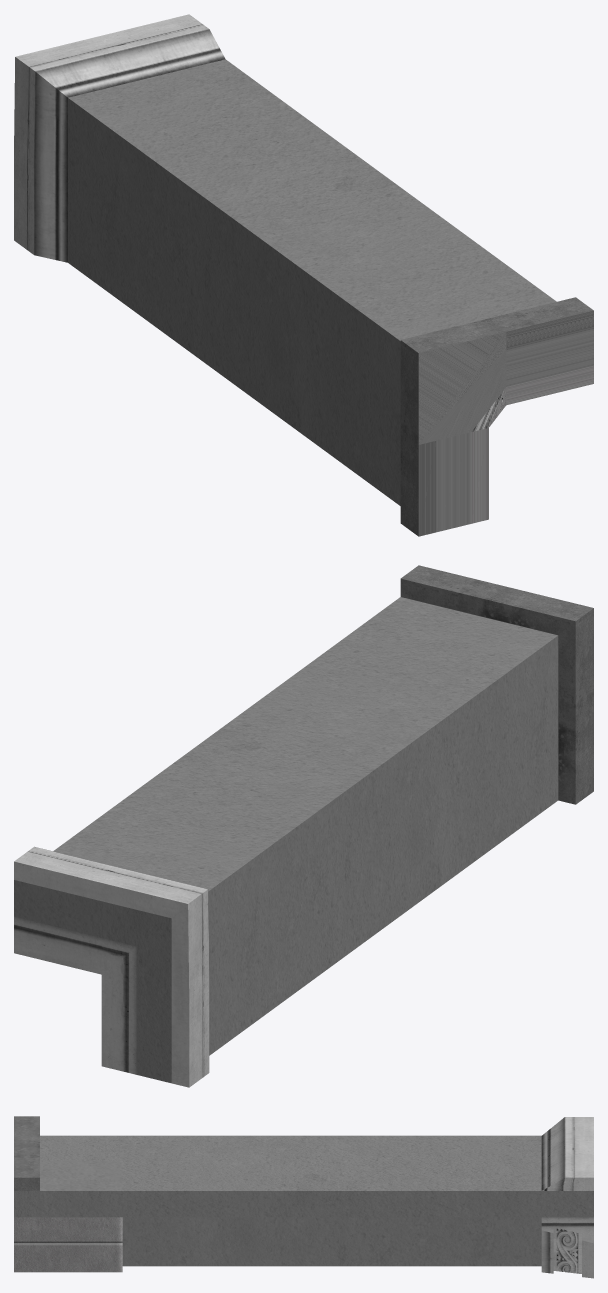
File: A_wall_ 2m_corner_B.fbx
3 renders of one model, top to bottom at view 1: azimuth 30°, elevation 25°; view 2: azimuth 150°, elevation 25°; view 3: azimuth 270°, elevation 25°, orthographic. The views are drawn at different scales.
Visible parts, largest first — view 1: A_wall__2m_corner_B; view 2: A_wall__2m_corner_B; view 3: A_wall__2m_corner_B.
Part boxes in pixels (<box>): A_wall__2m_corner_B: <box>14,14,593,536</box>; A_wall__2m_corner_B: <box>14,565,593,1087</box>; A_wall__2m_corner_B: <box>14,1116,593,1278</box>.
Size of the model in its own units: 1 by 1 by 4.
